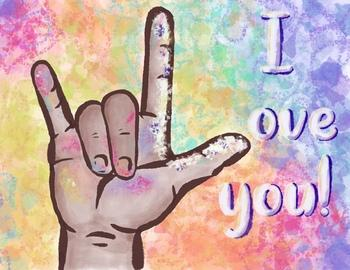Love_you: (22, 3, 247, 270)
